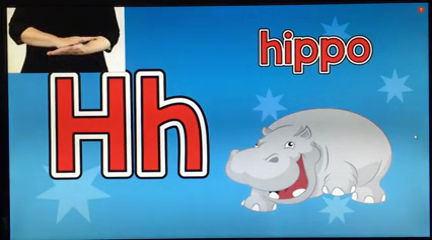H: (38, 25, 115, 61)
